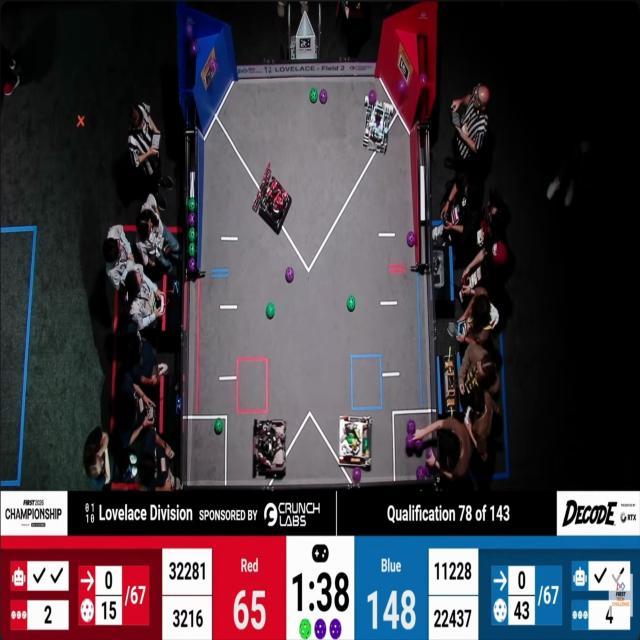artifact_green: (300, 619, 311, 639), (330, 620, 341, 638), (266, 303, 275, 319), (214, 419, 223, 434), (347, 296, 355, 312), (310, 88, 318, 103), (188, 258, 196, 271), (188, 212, 195, 226), (188, 198, 195, 211), (189, 243, 195, 257), (189, 228, 195, 242), (347, 434, 354, 445), (364, 439, 368, 449), (384, 127, 388, 134)
artifact_purple: (315, 619, 326, 639), (330, 619, 341, 639), (426, 448, 436, 468), (406, 435, 416, 450), (398, 79, 407, 95), (368, 89, 377, 105), (209, 58, 218, 74), (417, 466, 427, 480), (407, 231, 415, 248), (415, 439, 423, 455), (286, 267, 294, 283), (407, 420, 416, 434), (353, 468, 361, 483), (186, 22, 193, 39), (190, 40, 197, 56), (320, 89, 327, 104), (420, 73, 428, 86), (425, 448, 432, 460), (189, 258, 195, 271), (425, 465, 431, 478), (189, 213, 195, 226), (376, 115, 381, 127)
